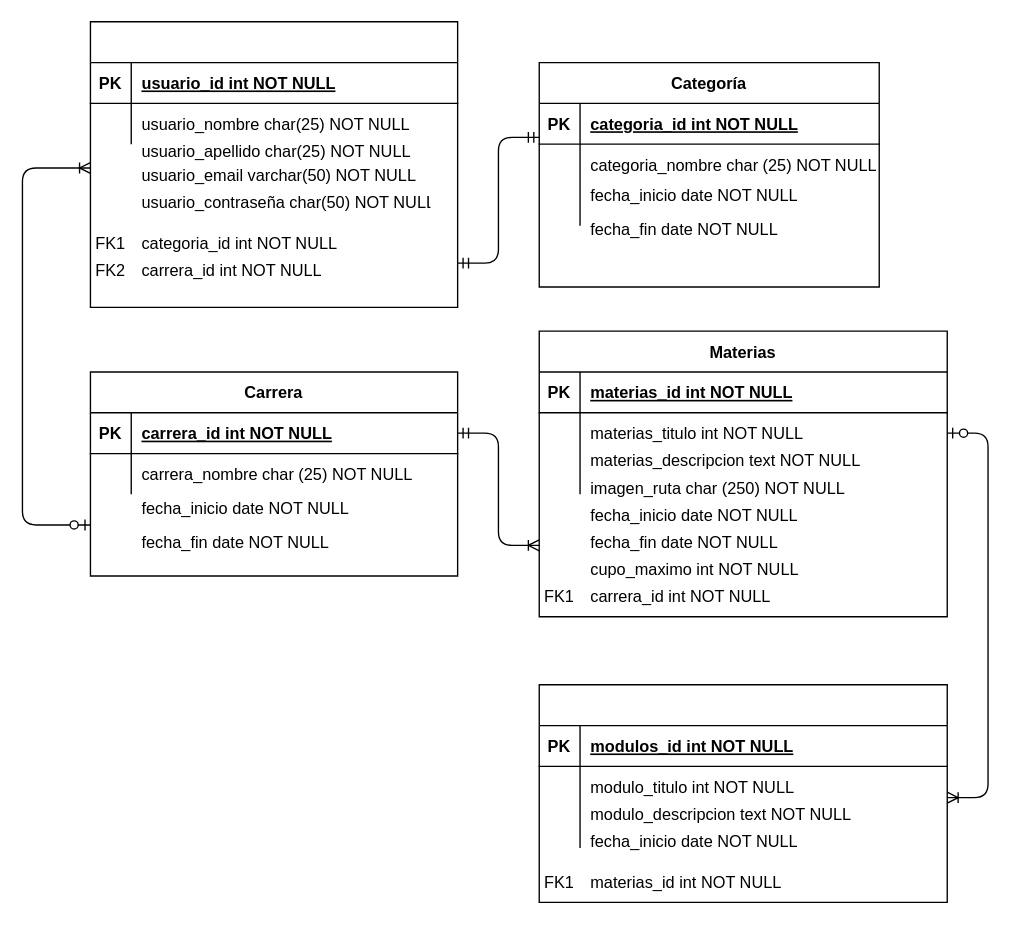
Some shapes in this 1010 by 925 pixel diagram are drawn without their labels. Each missing label, with the box of its shape:
Módulos: (538, 683, 947, 902)
Usuarios: (89, 20, 458, 307)
